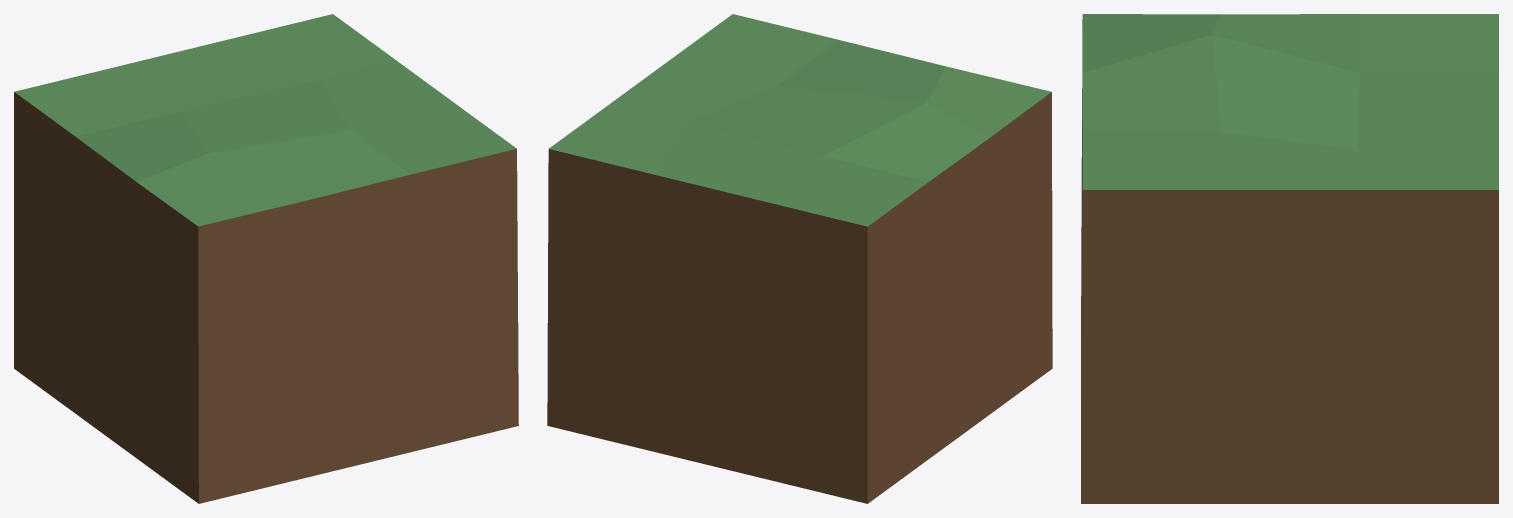
The model's file is plat_terre_millieu_3.fbx.
The picture shows the model from 3 angles, left to right: view 1: azimuth 30°, elevation 25°; view 2: azimuth 150°, elevation 25°; view 3: azimuth 270°, elevation 25°; orthographic projection. The views are drawn at different scales.
Visible parts, largest first — view 1: Plane; view 2: Plane; view 3: Plane.
Boxes of the visible parts, <box> form: Plane: <box>14,14,518,503</box>; Plane: <box>547,14,1052,503</box>; Plane: <box>1081,14,1498,503</box>.
Bounding box in the file's own units: 245 × 213 × 245.
